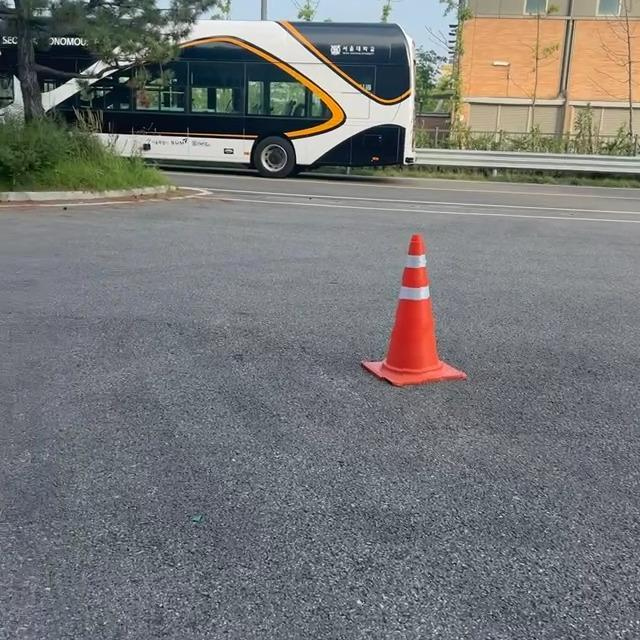fallen_object: (386, 222, 488, 424)
